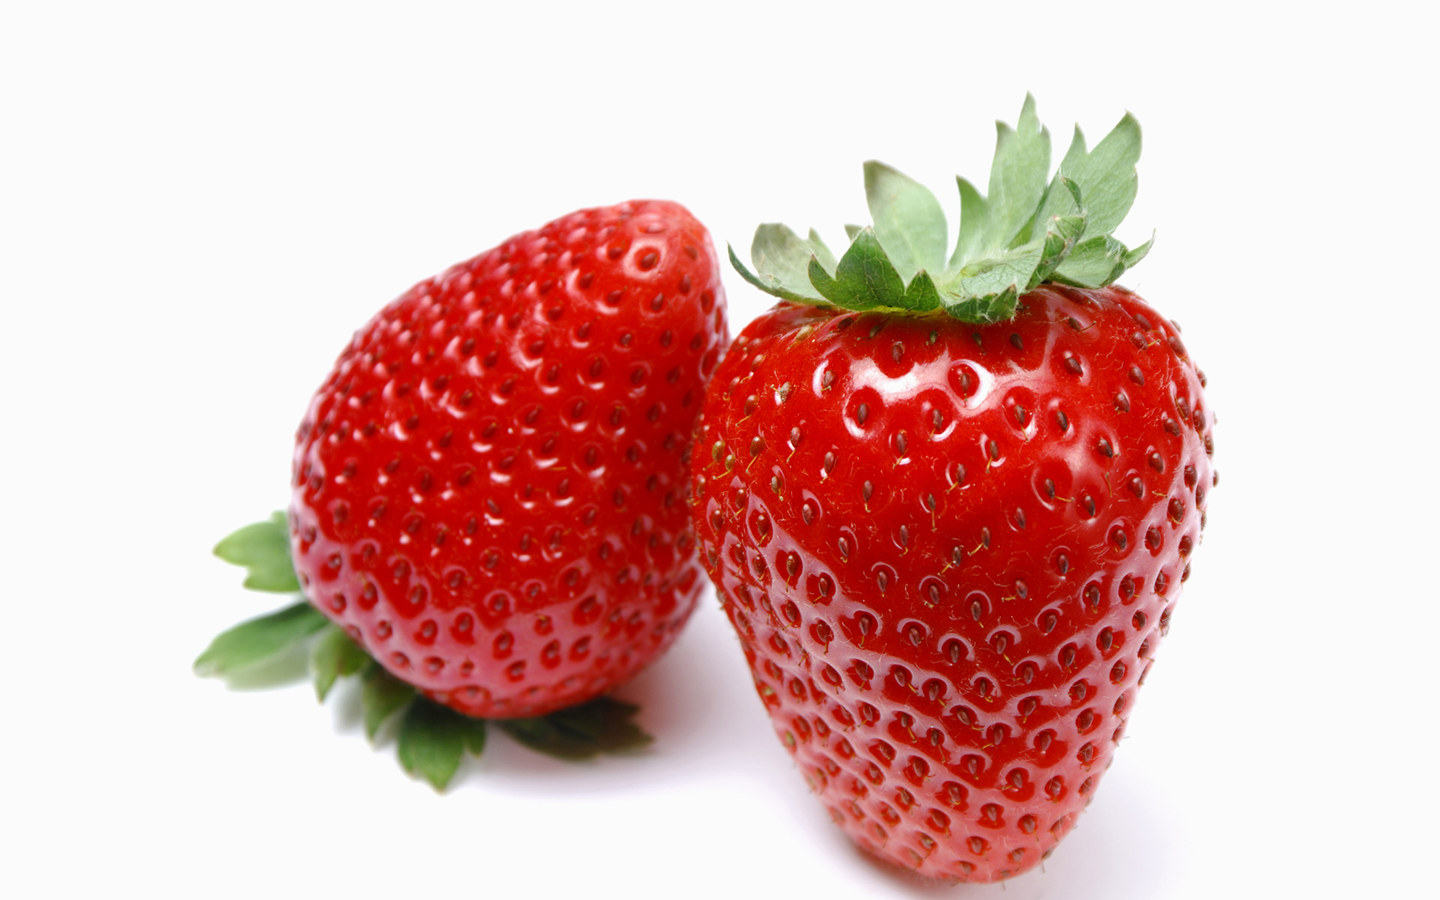strawberry: (700, 213, 1240, 900), (294, 203, 693, 715)
